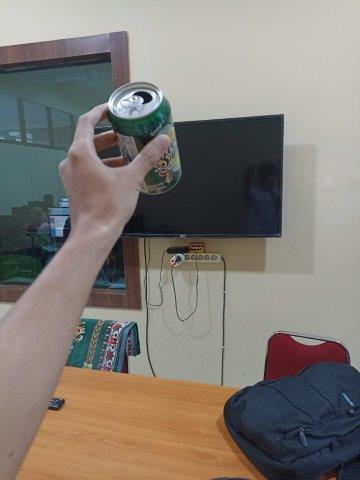kaleng: (107, 80, 182, 196)
